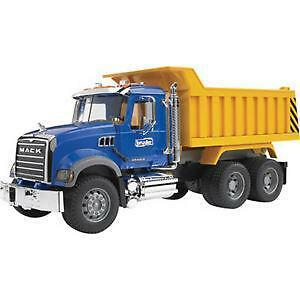truck: (1, 64, 300, 235)
